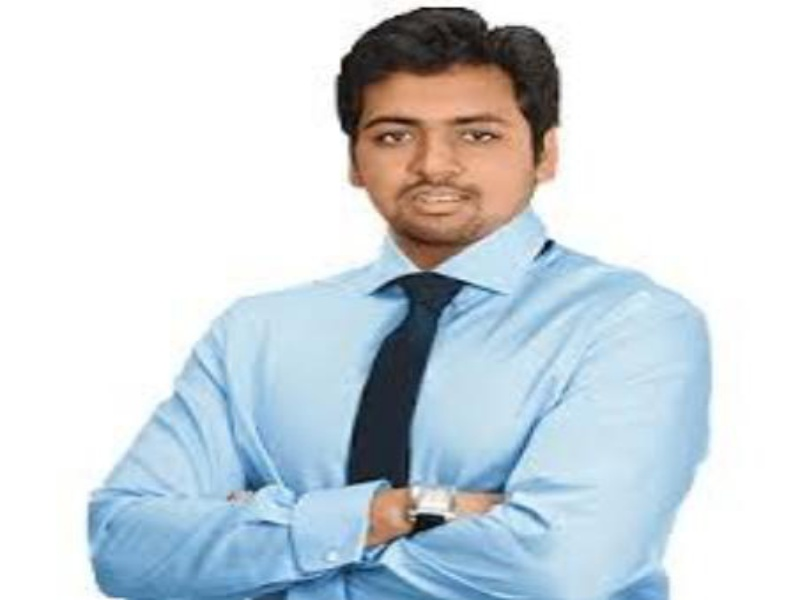TsisyArotava: (325, 10, 588, 271)
